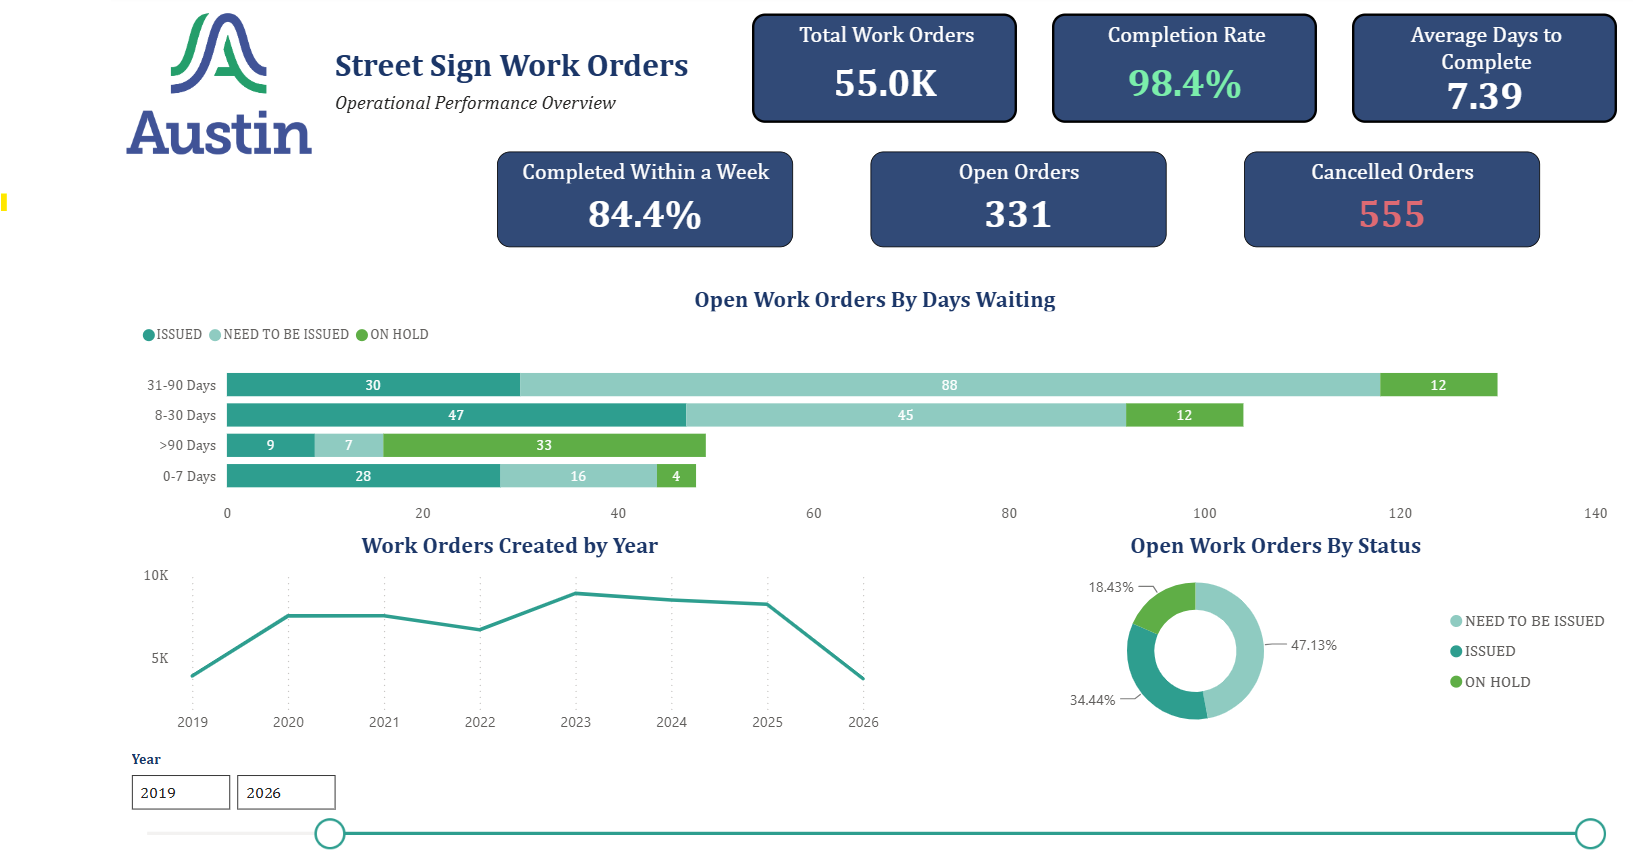

This screenshot's page, from the dashboard's own definition file:
{"tool":"powerbi","page":{"name":"CityOfAustin","canvas":[1280,720],"ordinal":0},"visuals":[{"type":"card","title":"Total Work Orders","fields":{"Values":["MeasuresTable.Total Work Orders"]},"box":[538.6,16.3,221.3,91.1],"z":0},{"type":"slicer","fields":{"Values":["Calendar.Year"]},"box":[8.1,626.4,1252.9,92.7],"z":1000},{"type":"card","title":"Completed Within a Week","fields":{"Values":["MeasuresTable.Completed Within Week %"]},"box":[325.4,131.7,247.3,80],"z":2000},{"type":"donutChart","title":"Open Work Orders By Status","fields":{"Category":["StreetWorkOrders.Work Order Status"],"Y":["CountNonNull(StreetWorkOrders.Work Order Status)"]},"box":[691.1,449.1,569.4,177.7],"z":3000},{"type":"card","title":"Average Days to Complete","fields":{"Values":["Avg(StreetWorkOrders.Days to Complete)"]},"box":[1039.7,16.3,221,91.1],"z":4000},{"type":"card","title":"Completion Rate","fields":{"Values":["MeasuresTable.Completion Rate"]},"box":[789.2,16.3,221.3,91.1],"z":5000},{"type":"card","title":"Open Orders","fields":{"Values":["MeasuresTable.Open Orders"]},"box":[638,131.7,247,80],"z":6000},{"type":"lineChart","title":"Work Orders Created by Year","fields":{"Category":["Calendar.Start of Month.Variation.Date Hierarchy.Year"],"Y":["CountNonNull(StreetWorkOrders.Work Order ID)"]},"box":[23.8,449.1,625.3,177.7],"z":7000},{"type":"card","title":"Cancelled Orders","fields":{"Values":["MeasuresTable.Cancelled Orders"]},"box":[950.2,131.7,247,80],"z":8000},{"type":"barChart","title":"Open Work Orders By Days Waiting","fields":{"Category":["StreetWorkOrders.Age Bucket"],"Series":["StreetWorkOrders.Work Order Status"],"Y":["CountNonNull(StreetWorkOrders.Work Order ID)"]},"box":[24.4,242.4,1235,206.6],"z":9000},{"type":"image","box":[16.3,0,154.6,149.7],"z":10000},{"type":"textbox","box":[185.5,37.4,340.1,48.8],"z":11000},{"type":"textbox","box":[185.5,74.8,260.3,40.7],"z":12000}]}

Visuals, with their boxes on the page's 1280x720 design canvas (x1, y1, x2, y2). These are canvas units, not pixel positions in the 1633x852 screenshot, which may show the page scaled, cropped or inside an application window:
"Total Work Orders" card: {"x1": 539, "y1": 16, "x2": 760, "y2": 107}
slicer - Calendar.Year: {"x1": 8, "y1": 626, "x2": 1261, "y2": 719}
"Completed Within a Week" card: {"x1": 325, "y1": 132, "x2": 573, "y2": 212}
"Open Work Orders By Status" donutChart: {"x1": 691, "y1": 449, "x2": 1260, "y2": 627}
"Average Days to Complete" card: {"x1": 1040, "y1": 16, "x2": 1261, "y2": 107}
"Completion Rate" card: {"x1": 789, "y1": 16, "x2": 1010, "y2": 107}
"Open Orders" card: {"x1": 638, "y1": 132, "x2": 885, "y2": 212}
"Work Orders Created by Year" lineChart: {"x1": 24, "y1": 449, "x2": 649, "y2": 627}
"Cancelled Orders" card: {"x1": 950, "y1": 132, "x2": 1197, "y2": 212}
"Open Work Orders By Days Waiting" barChart: {"x1": 24, "y1": 242, "x2": 1259, "y2": 449}
image: {"x1": 16, "y1": 0, "x2": 171, "y2": 150}
textbox: {"x1": 186, "y1": 37, "x2": 526, "y2": 86}
textbox: {"x1": 186, "y1": 75, "x2": 446, "y2": 116}
